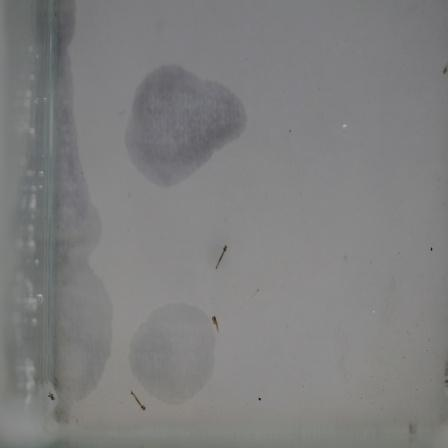Jentik-Nyamuk: (209, 242, 231, 275), (128, 386, 149, 417), (208, 313, 227, 339)
